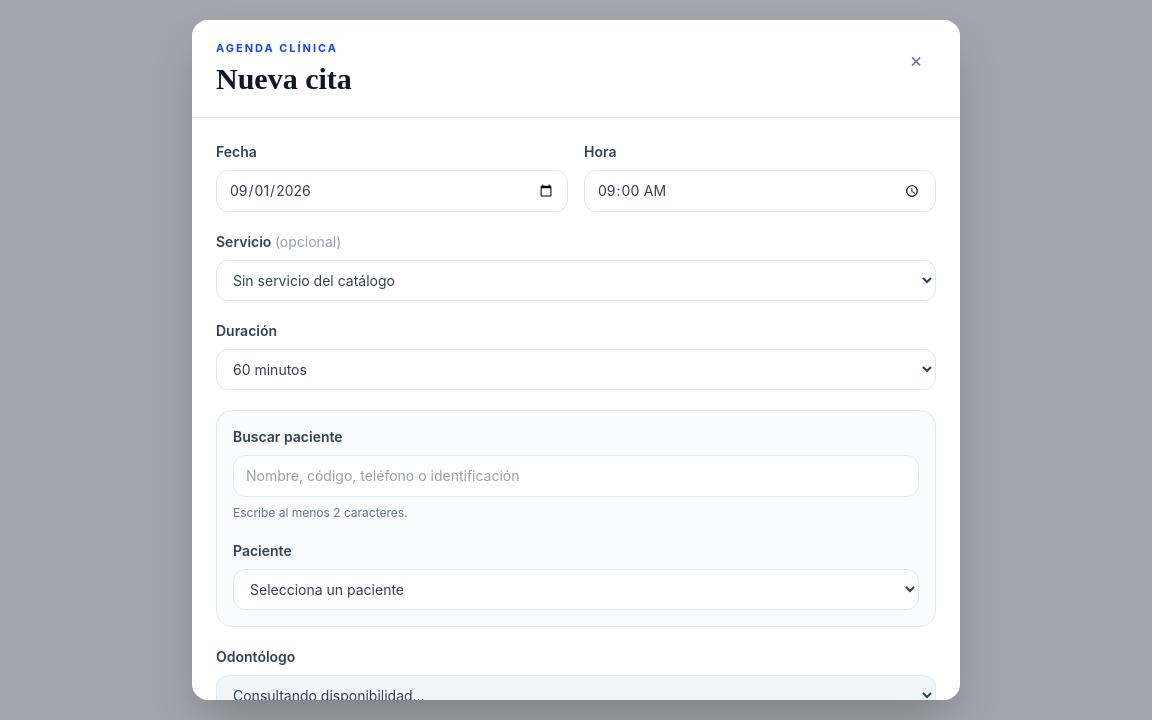
Test case: AppointmentFormPanel patient search › explains when a valid search has no results
In the search field labelled "Buscar paciente": (576, 476) [233,455,919,497], type "Nadie"
Wait 300 ms
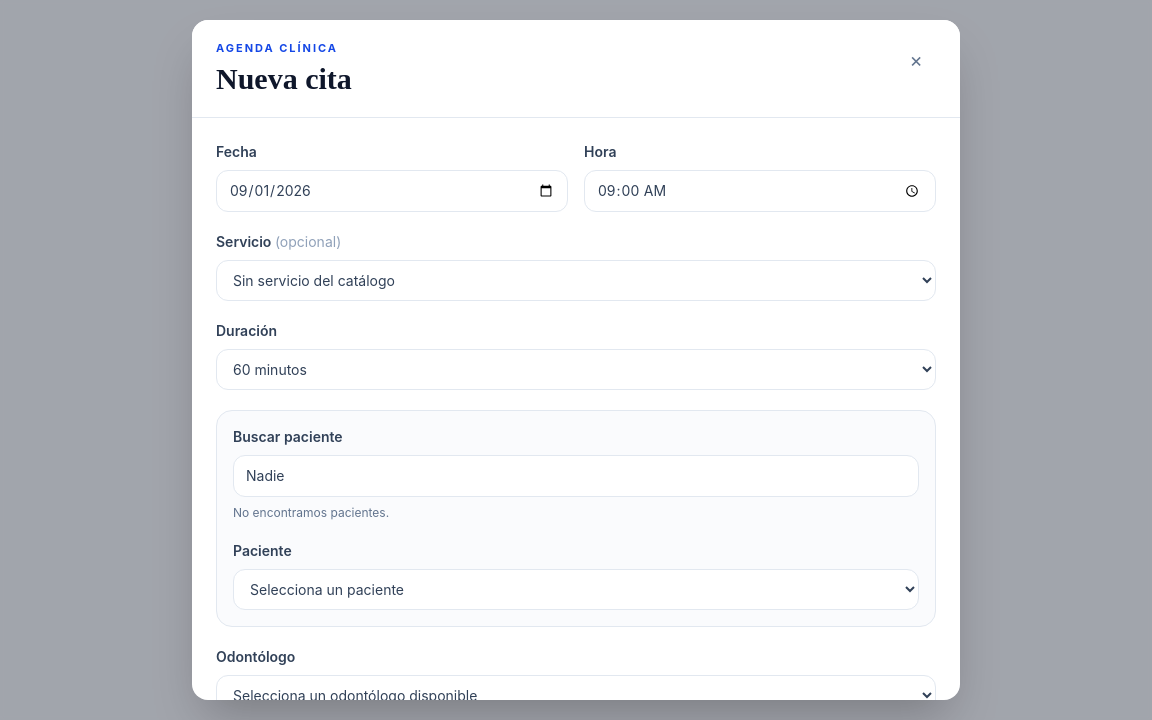
Check: the text "No encontramos pacientes." is shown, box [233,505,389,520]
